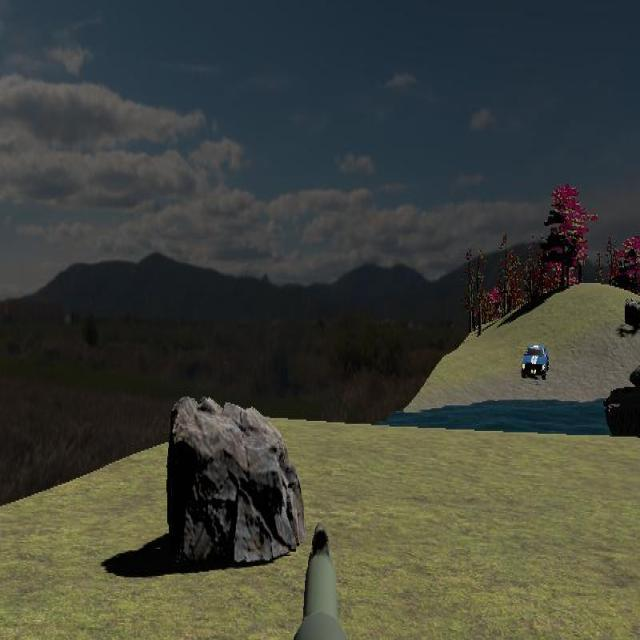Tank: (603, 360, 640, 440)
car: (521, 343, 550, 380)
